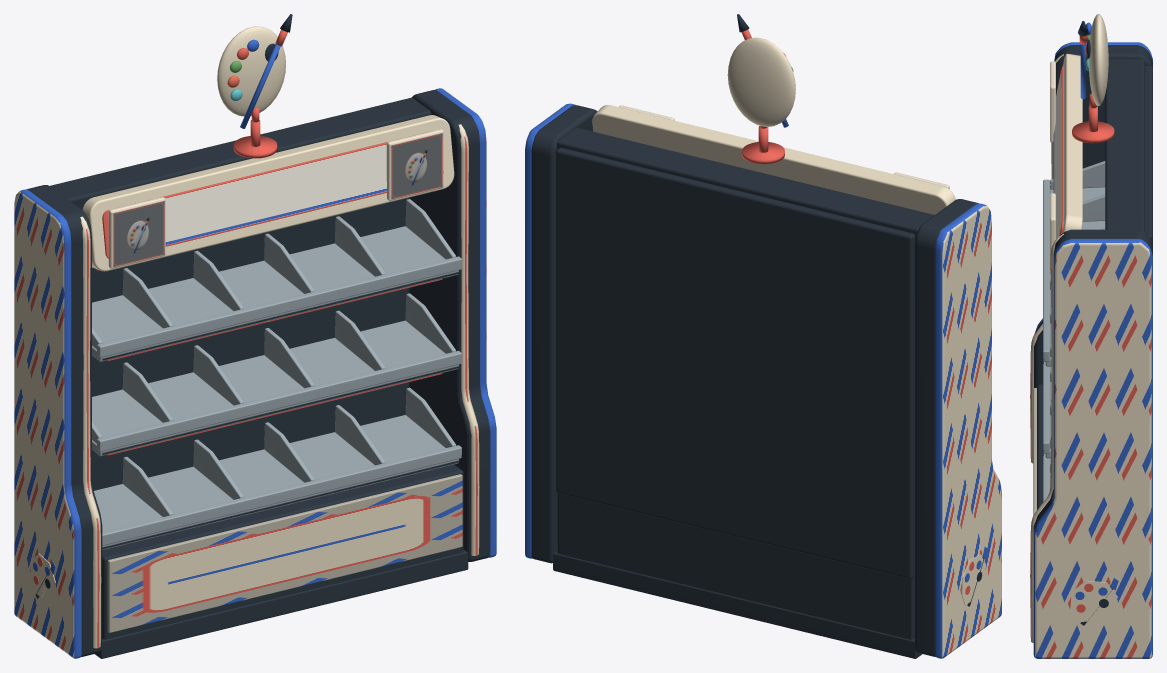
File: TH_ART_STUDIO.fbx
3 renders of one model, left to right at view 1: azimuth 30°, elevation 25°; view 2: azimuth 150°, elevation 25°; view 3: azimuth 270°, elevation 25°, orthographic. The views are drawn at different scales.
Visible parts, largest first — view 1: BaseFrontInset, Left_PaintedPanel, BackPanel.001, Right_StructuralWall, Tray_02, Tray_01, Tray_03, HeaderFace, HeaderBorder, TopCrossRail, Left_StructuralWall, ClosedSolidBase (+33 smaller); view 2: BackPanel.001, Left_PaintedPanel, ClosedSolidBase, Right_StructuralWall, HeaderBorder, Left_StructuralWall, TopCrossRail, LowerPlinth, Wooden palette, Right_PaintedPanel, TopperMount; view 3: Right_PaintedPanel, TopCrossRail, HeaderBorder, Left_StructuralWall, HeaderFace, Wooden palette, BackPanel.001, FrontLip_01, RightHousing, Right_StructuralWall, Relief.009, ClosedSolidBase (+14 smaller).
Boxes of the visible parts, x1,y1,x2,y2 form: BaseFrontInset: (107, 474, 462, 632); Left_PaintedPanel: (14, 189, 81, 658); BackPanel.001: (92, 197, 409, 490); Right_StructuralWall: (409, 90, 490, 561); Tray_02: (92, 320, 458, 456); Tray_01: (92, 226, 458, 361); Tray_03: (93, 415, 458, 550); HeaderFace: (102, 132, 443, 258); HeaderBorder: (82, 115, 454, 271); TopCrossRail: (50, 97, 431, 209); Left_StructuralWall: (27, 185, 102, 656); ClosedSolidBase: (102, 464, 463, 639); BackPanel.001: (556, 147, 915, 578); Left_PaintedPanel: (935, 203, 1001, 658); ClosedSolidBase: (557, 493, 914, 639); Right_StructuralWall: (531, 105, 597, 563); HeaderBorder: (592, 105, 955, 214); Left_StructuralWall: (915, 199, 978, 656); TopCrossRail: (557, 128, 934, 240); LowerPlinth: (553, 551, 922, 658); Wooden palette: (727, 37, 795, 126); Right_PaintedPanel: (525, 103, 575, 558); TopperMount: (742, 142, 784, 164); Right_PaintedPanel: (1033, 239, 1152, 658); TopCrossRail: (1105, 59, 1144, 231); HeaderBorder: (1062, 53, 1082, 232); Left_StructuralWall: (1034, 45, 1152, 387); HeaderFace: (1053, 66, 1063, 238); Wooden palette: (1088, 14, 1108, 105); BackPanel.001: (1145, 65, 1152, 245); FrontLip_01: (1043, 179, 1050, 361); RightHousing: (1030, 233, 1063, 642); Right_StructuralWall: (1033, 229, 1152, 531); Relief.009: (1070, 580, 1117, 622); ClosedSolidBase: (1036, 384, 1042, 509).
Size of the model in its own units: 3.63 by 4.67 by 0.9273.
